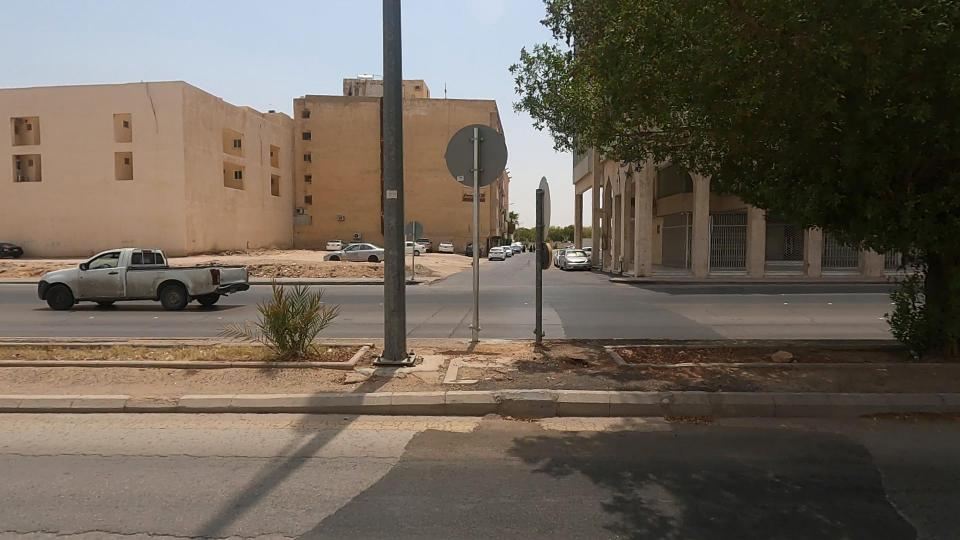CLUTTER_SIDEWALK: (422, 287, 960, 430)
